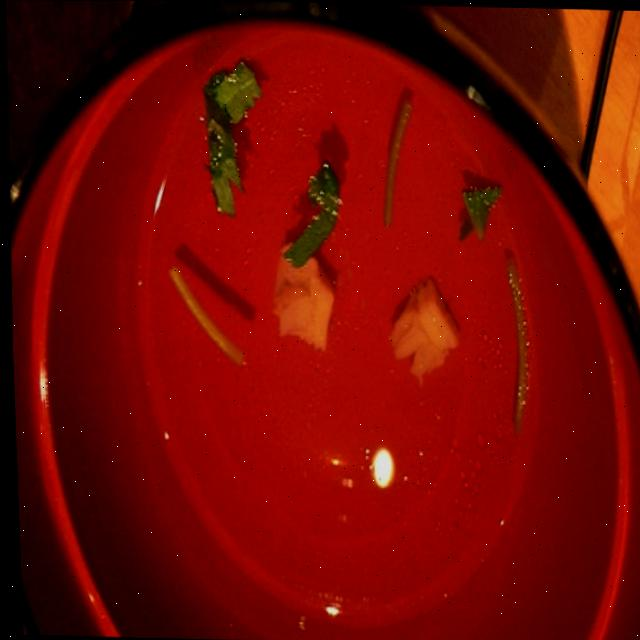汤锅炖物: (96, 56, 558, 622)
